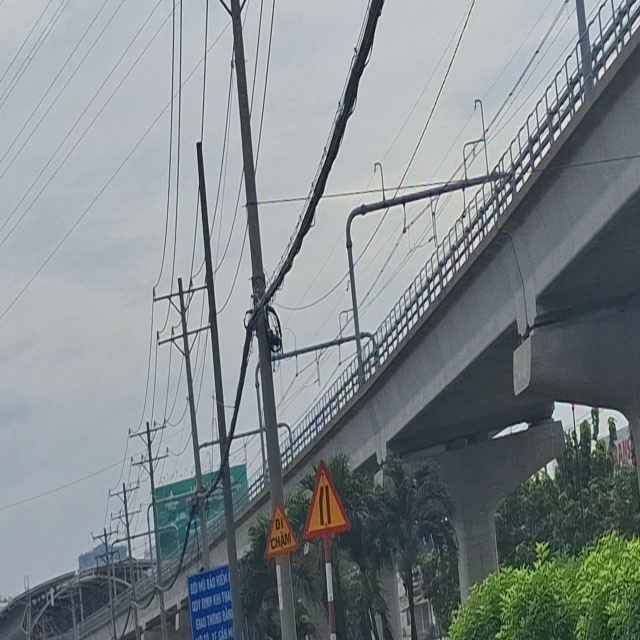di cham: (251, 489, 301, 562)
